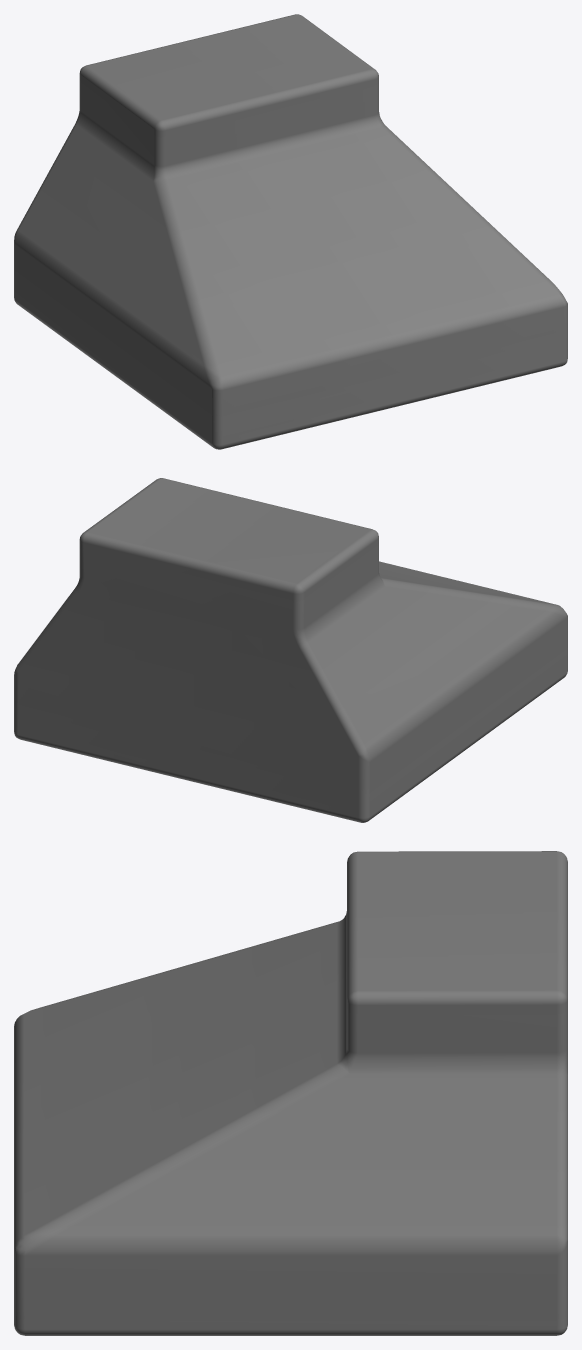
Rendered from HH_RangeHood.fbx.
3 renders of one model, top to bottom at view 1: azimuth 30°, elevation 25°; view 2: azimuth 150°, elevation 25°; view 3: azimuth 270°, elevation 25°, orthographic. The views are drawn at different scales.
Visible parts, largest first — view 1: RangeHood; view 2: RangeHood; view 3: RangeHood.
Part boxes in pixels (left/top/right/bottom): RangeHood: left=14, top=14, right=567, bottom=449; RangeHood: left=14, top=478, right=567, bottom=822; RangeHood: left=14, top=851, right=567, bottom=1335.
Bounding box in the file's own units: 100 × 59.99 × 100.
Materials: 1 (1 with a texture image).
